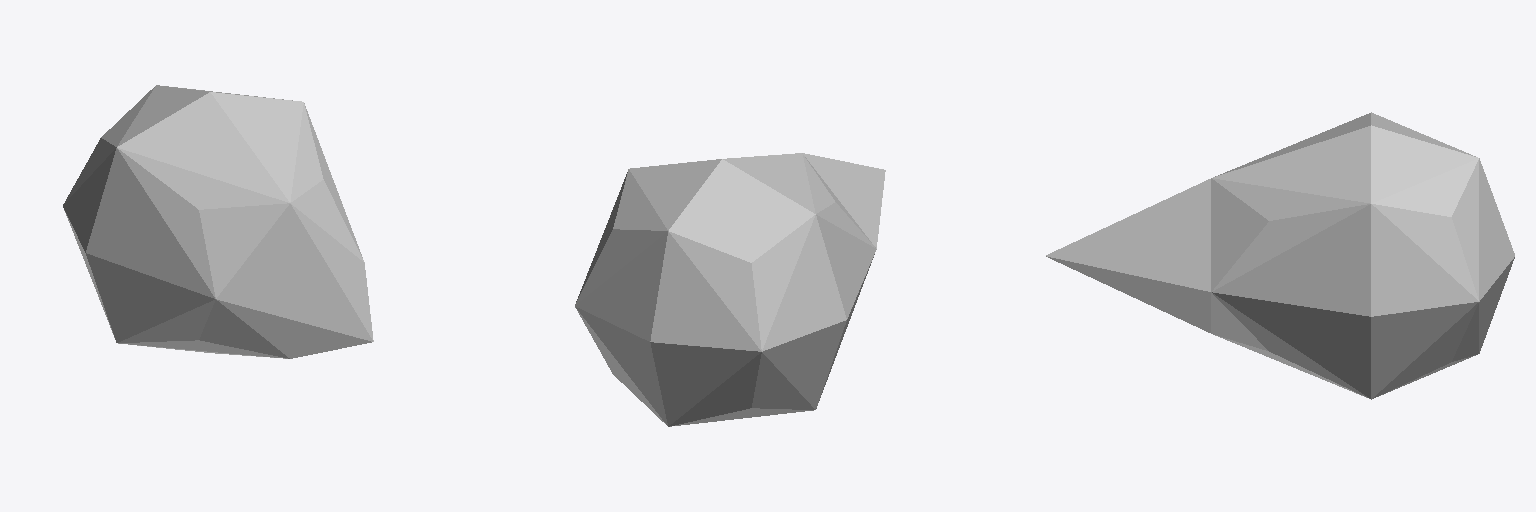
The model's file is bullet.obj.
3 views of the same model, side by side, from view 1: azimuth 30°, elevation 25°; view 2: azimuth 150°, elevation 25°; view 3: azimuth 270°, elevation 25° (orthographic).
Parts seen in each view (by area): view 1: pCube1; view 2: pCube1; view 3: pCube1.
Boxes of the visible parts, box(x1,y1,x2,y2) form: pCube1: box(63, 85, 373, 358); pCube1: box(575, 153, 885, 426); pCube1: box(1046, 112, 1514, 399).
Bounding box in the file's own units: 0.7835 × 0.7835 × 1.28.